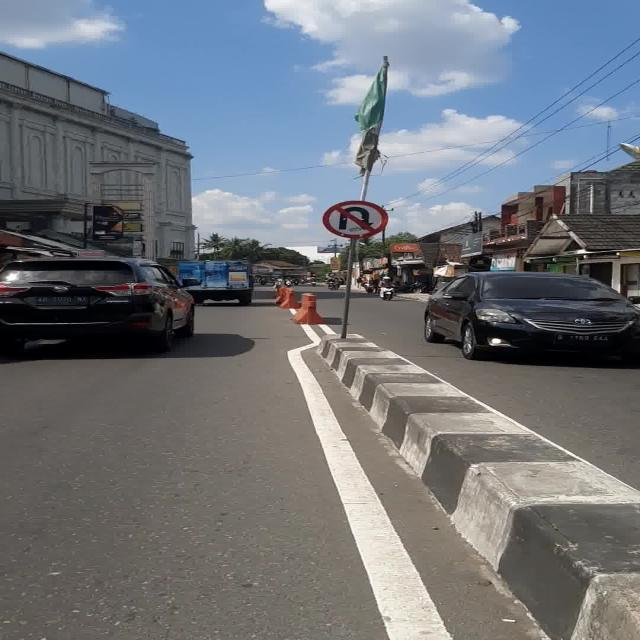Dilarang Putar Balik: (322, 200, 389, 238)
